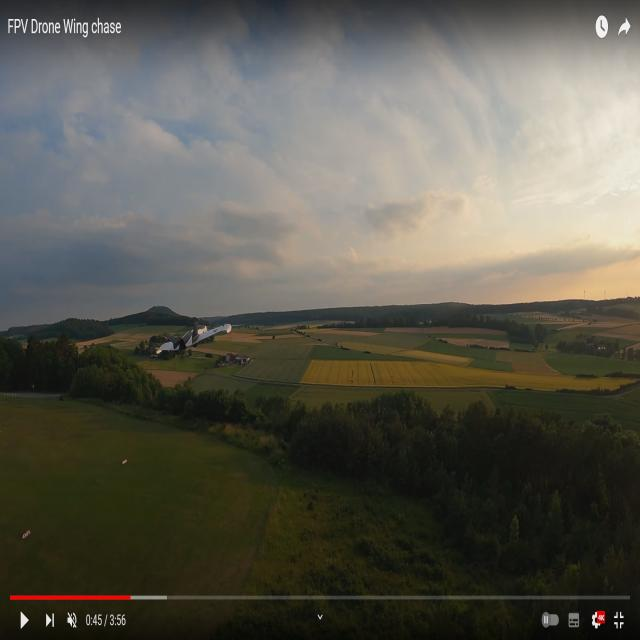iha: (194, 322, 197, 355)
